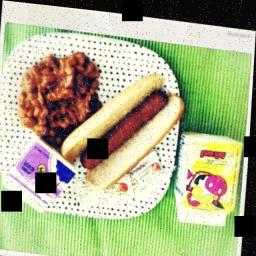hotdog: (62, 54, 187, 198)
